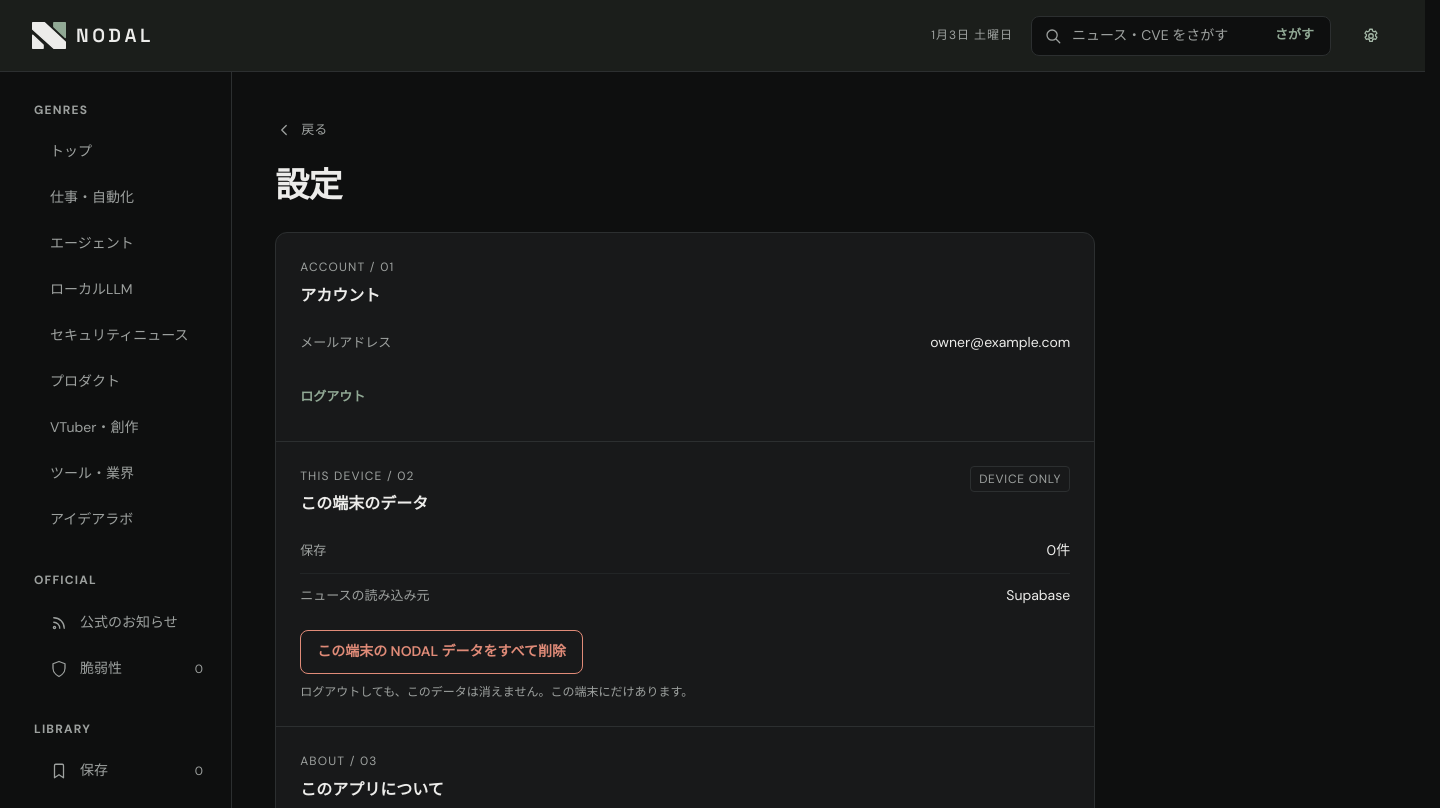
Supabase モード:ログアウト › 設定の画面にメールアドレスと読み込み元を出し、ログアウトで、ネタを手放してログイン画面に戻る
Later steps or results of the test are not shown.
expect the text "owner@example.com" is shown: met, box left=930, top=331, right=1070, bottom=355
expect the text "Supabase" is shown: met, box left=1006, top=584, right=1070, bottom=608
Click the button "ログアウト". click: (333, 397)
box: left=300, top=377, right=365, bottom=417
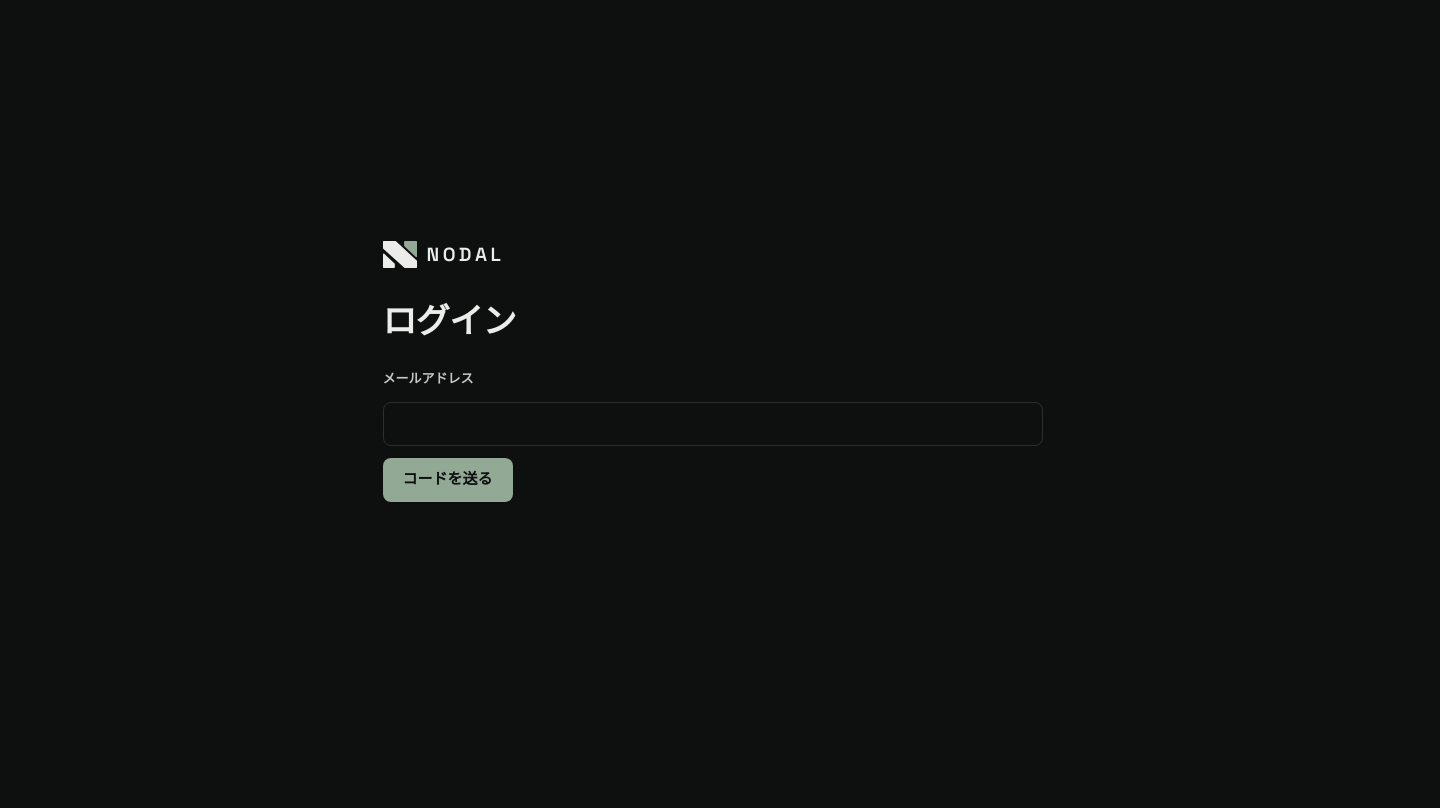
expect the heading "ログイン" is shown: met, box left=382, top=299, right=516, bottom=344
expect the navigation bar is gone: met
